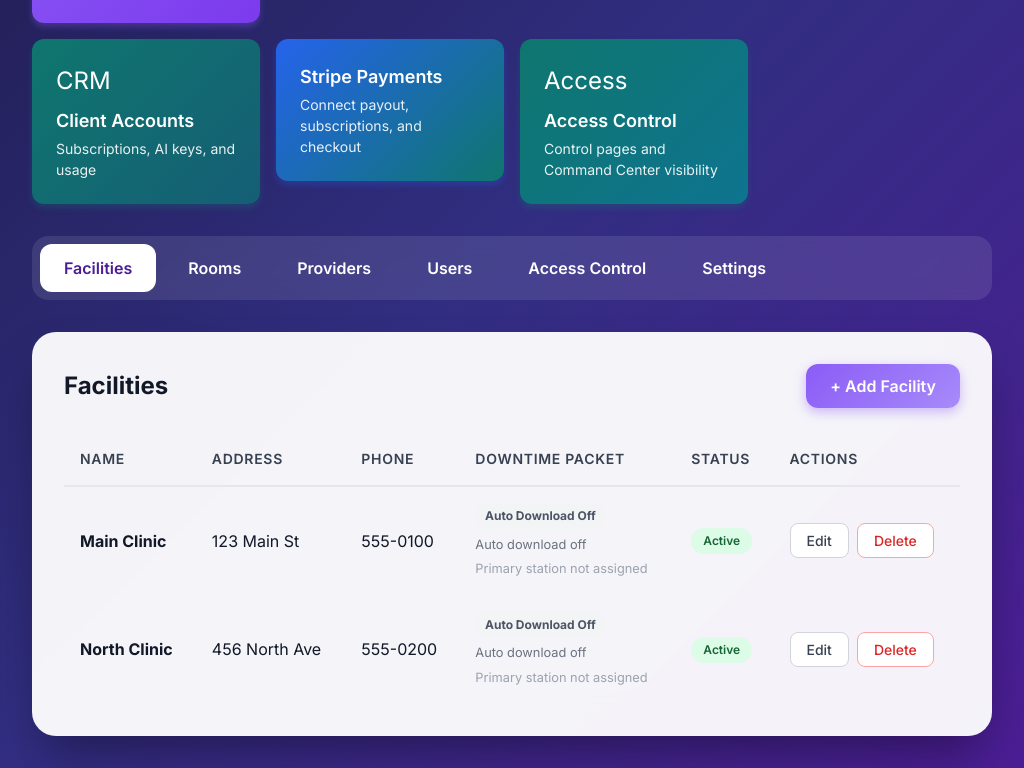
it: AdminPage › should open edit facility modal
(page scrolled)
expect the text "Main Clinic" is shown: met, box [80,531,166,551]
Click the button "Edit" in the row of "Main Clinic": (819,541) [790,523,849,558]
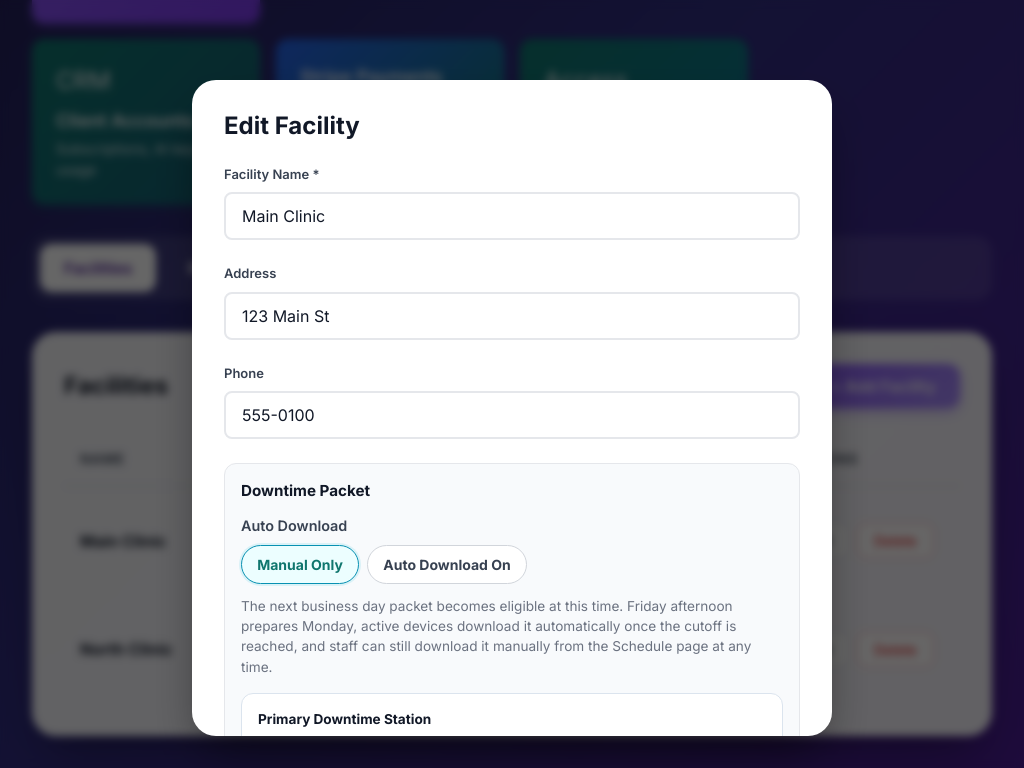
expect the heading "Edit Facility" is shown: met, box [224,111,360,140]
expect the field showing "Main Clinic" is shown: met, box [224,192,800,240]
